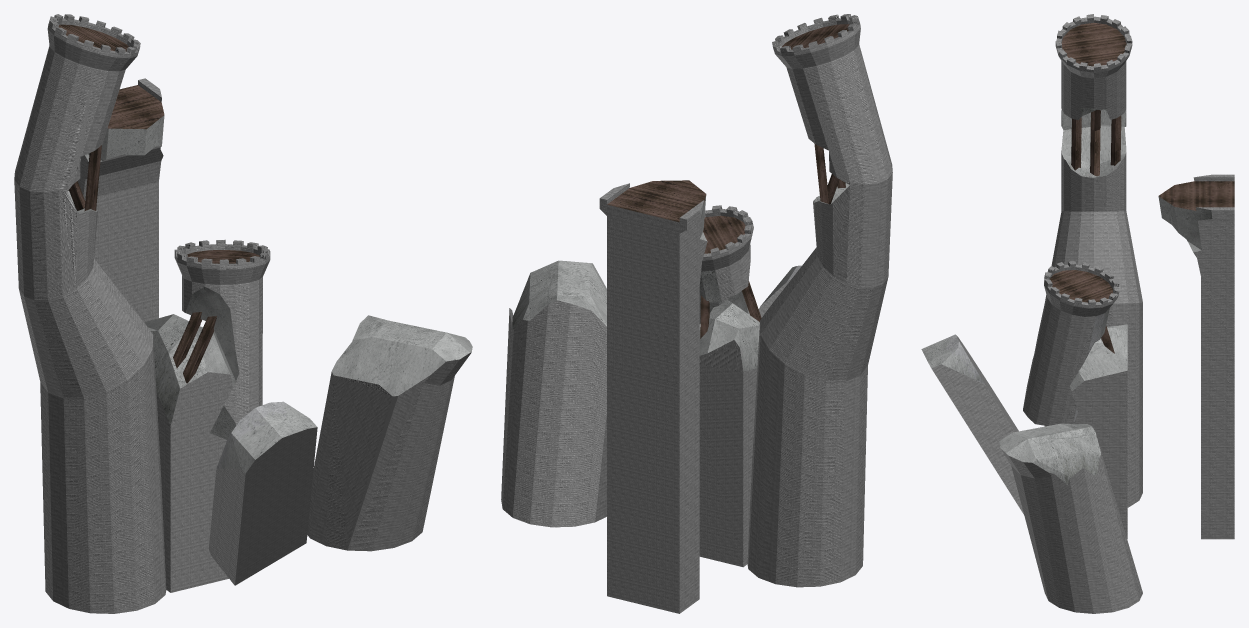
The model's file is BridgeBroken.fbx.
3 views of the same model, side by side, from view 1: azimuth 30°, elevation 25°; view 2: azimuth 150°, elevation 25°; view 3: azimuth 270°, elevation 25° (orthographic). The views are drawn at different scales.
Parts seen in each view (by area): view 1: BridgeBroken; view 2: BridgeBroken; view 3: BridgeBroken.
Part boxes in pixels (bbox=[...]): BridgeBroken: bbox=[14, 14, 472, 613]; BridgeBroken: bbox=[501, 14, 892, 613]; BridgeBroken: bbox=[921, 14, 1234, 613].
Bounding box in the file's own units: 5416 × 7204 × 4454.
